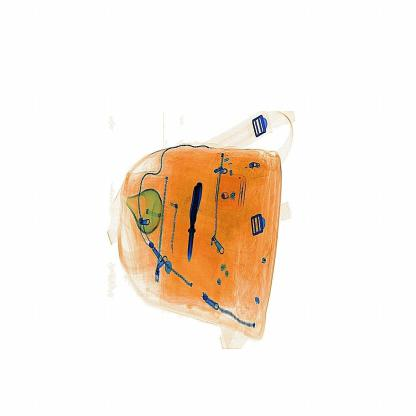gun: (182, 160, 212, 268)
